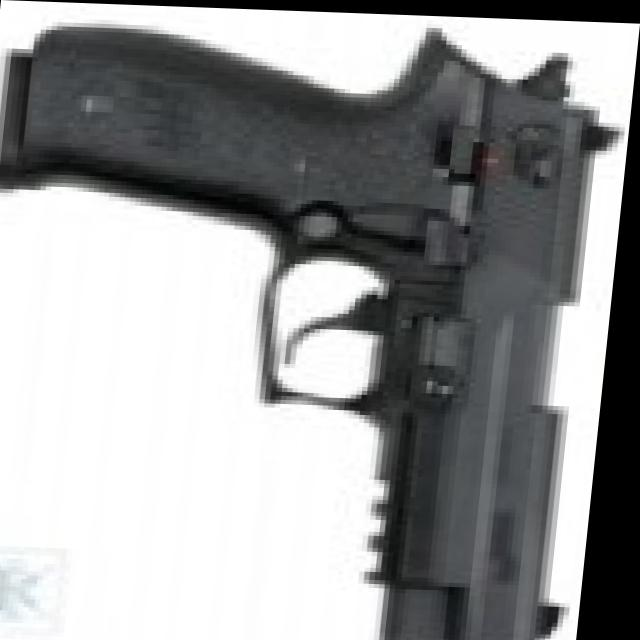handgun: (0, 20, 638, 640)
